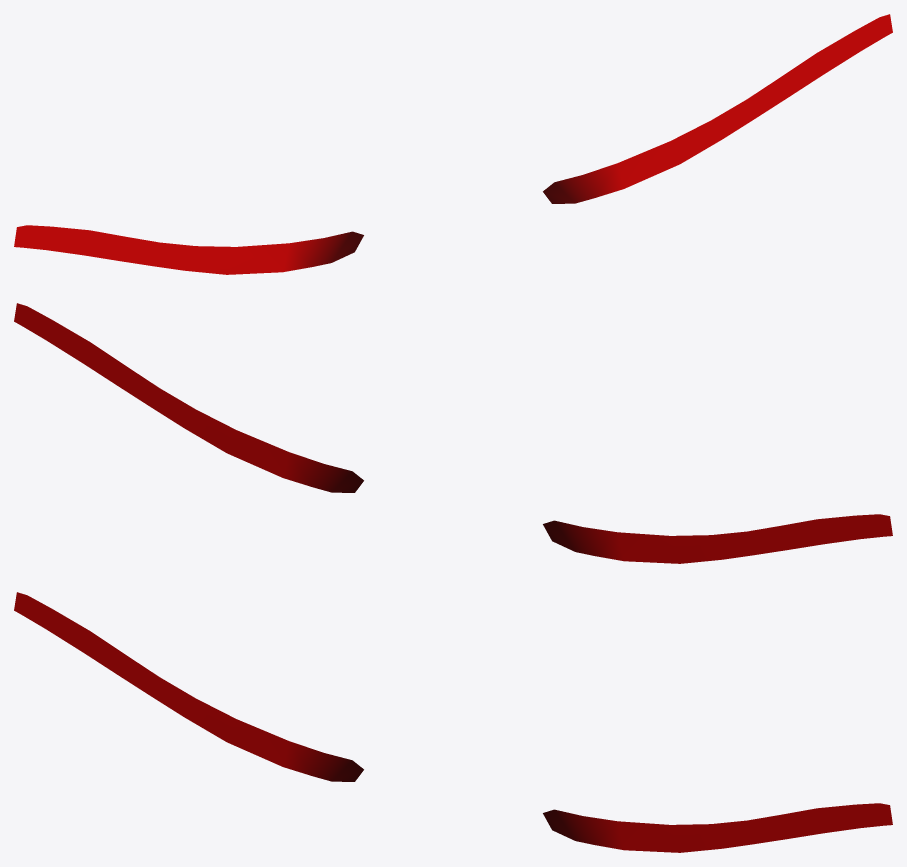
Rendered from frame171.fbx.
The picture shows the model from 3 angles, top to bottom: view 1: azimuth 30°, elevation 25°; view 2: azimuth 150°, elevation 25°; view 3: azimuth 330°, elevation 25°; orthographic projection.
Visible parts, largest first — view 1: MaterialLayer; view 2: MaterialLayer; view 3: MaterialLayer.
Boxes of the visible parts, x1,y1,x2,y2 form: MaterialLayer: (14,14,892,274); MaterialLayer: (14,303,892,563); MaterialLayer: (14,592,892,852).
Bounding box in the file's own units: 1521 × 186 × 0.
